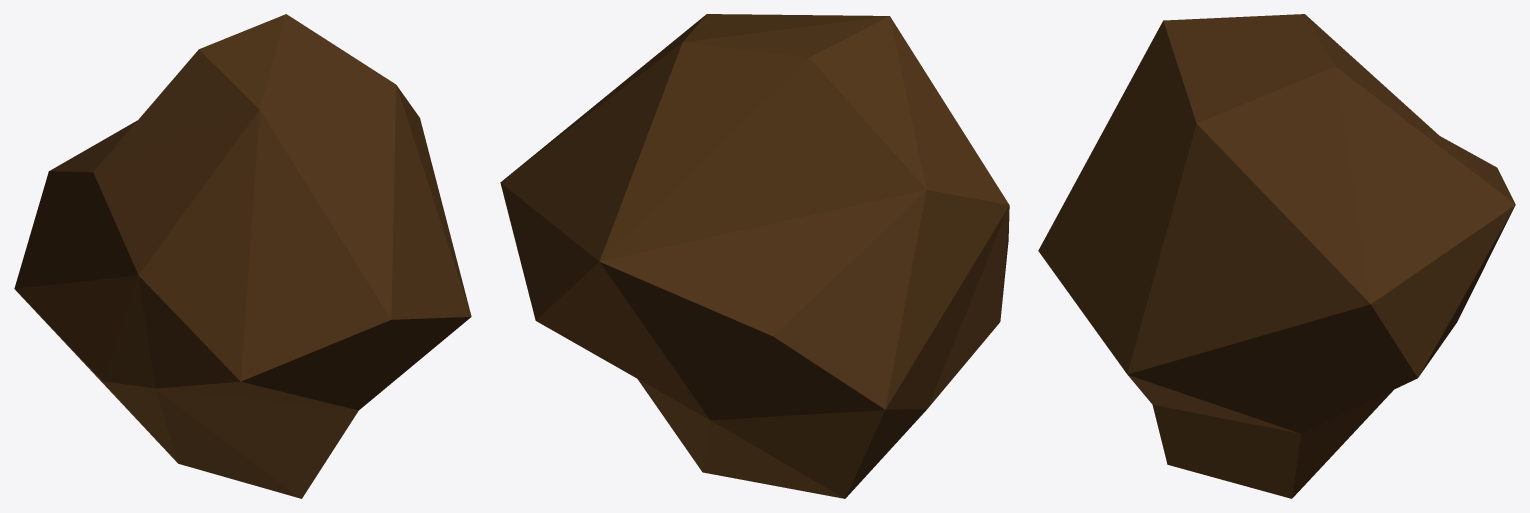
The model's file is asteroid2.fbx.
3 renders of one model, left to right at view 1: azimuth 30°, elevation 25°; view 2: azimuth 150°, elevation 25°; view 3: azimuth 270°, elevation 25°, orthographic. The views are drawn at different scales.
Parts seen in each view (by area): view 1: quickmaterial1; view 2: quickmaterial1; view 3: quickmaterial1.
Part boxes in pixels (<box>): quickmaterial1: <box>14,14,471,498</box>; quickmaterial1: <box>500,14,1009,498</box>; quickmaterial1: <box>1038,14,1515,498</box>.
Size of the model in its own units: 1.99 by 2.06 by 2.07.
